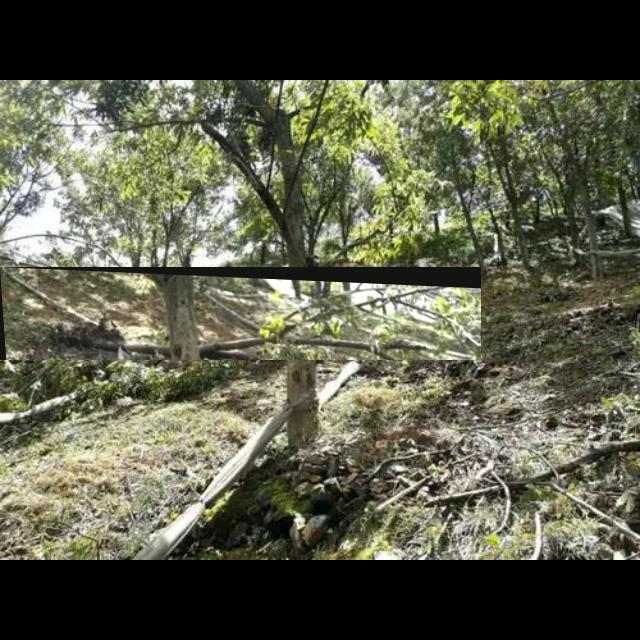Fallen Tree: (0, 267, 482, 361)
